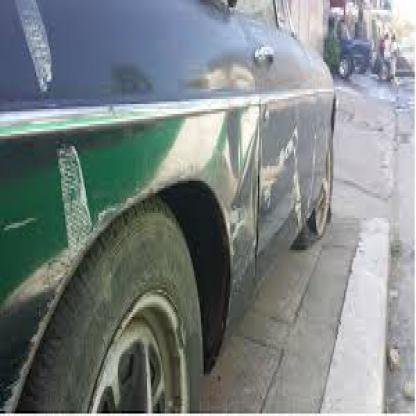dent: (223, 68, 258, 227)
